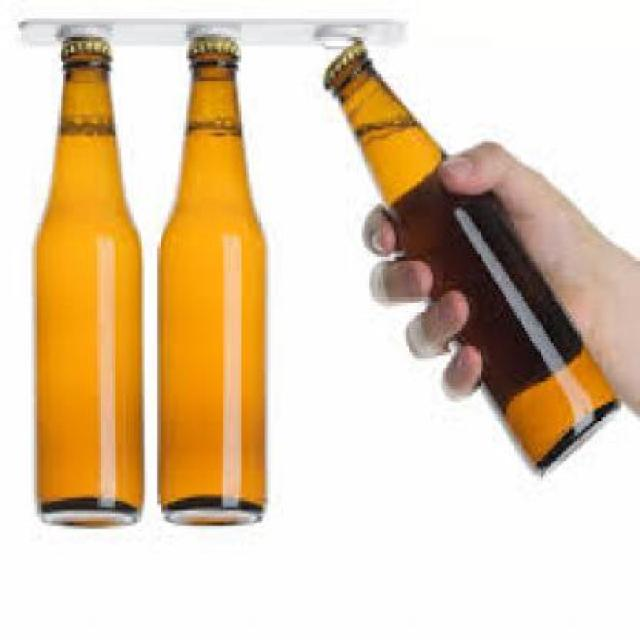GLASS: (333, 49, 624, 477), (160, 52, 271, 526), (36, 52, 147, 526)
METAL: (328, 37, 368, 83), (60, 34, 115, 52), (192, 37, 240, 49)
